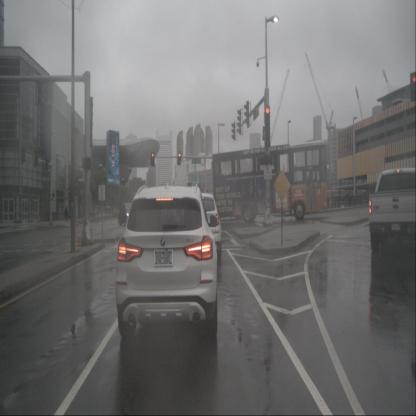human-pedestrian-adult: (64, 206, 68, 222)
movable_object-trafficcone: (76, 223, 82, 247), (328, 199, 332, 209)
vehicle-bus-rigid: (212, 140, 328, 223)
vehicle-car: (115, 184, 218, 338), (172, 193, 222, 266), (118, 203, 139, 228)
vehicle-truck: (368, 167, 416, 256)
